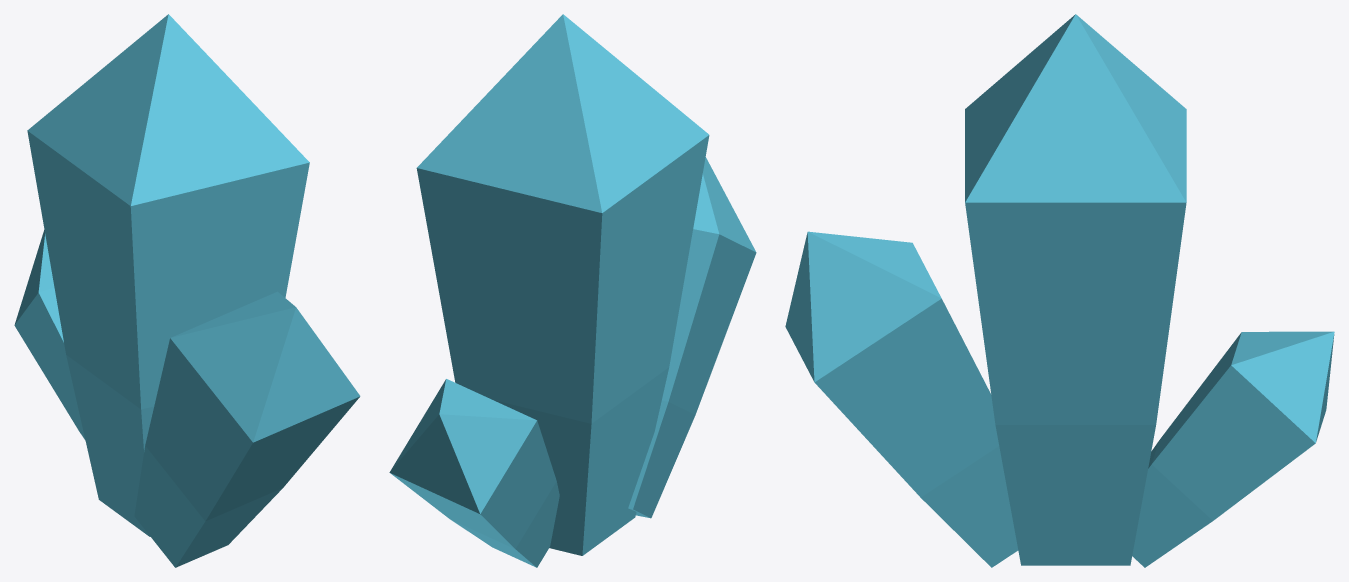
File: crystalmutipleblue.fbx
The picture shows the model from 3 angles, left to right: view 1: azimuth 30°, elevation 25°; view 2: azimuth 150°, elevation 25°; view 3: azimuth 270°, elevation 25°; orthographic projection. The views are drawn at different scales.
Parts seen in each view (by area): view 1: Base, Base.001, Base.003; view 2: Base, Base.003, Base.001; view 3: Base, Base.001, Base.003.
Boxes of the visible parts, left/top/right/bottom form: Base: left=27, top=14, right=309, bottom=536; Base.001: left=134, top=291, right=360, bottom=567; Base.003: left=14, top=230, right=85, bottom=439; Base: left=416, top=14, right=709, bottom=555; Base.003: left=389, top=379, right=559, bottom=567; Base.001: left=628, top=157, right=756, bottom=518; Base: left=965, top=14, right=1186, bottom=565; Base.001: left=785, top=231, right=1018, bottom=567; Base.003: left=1132, top=331, right=1334, bottom=567.
Size of the model in its own units: 141 by 385 by 351.
